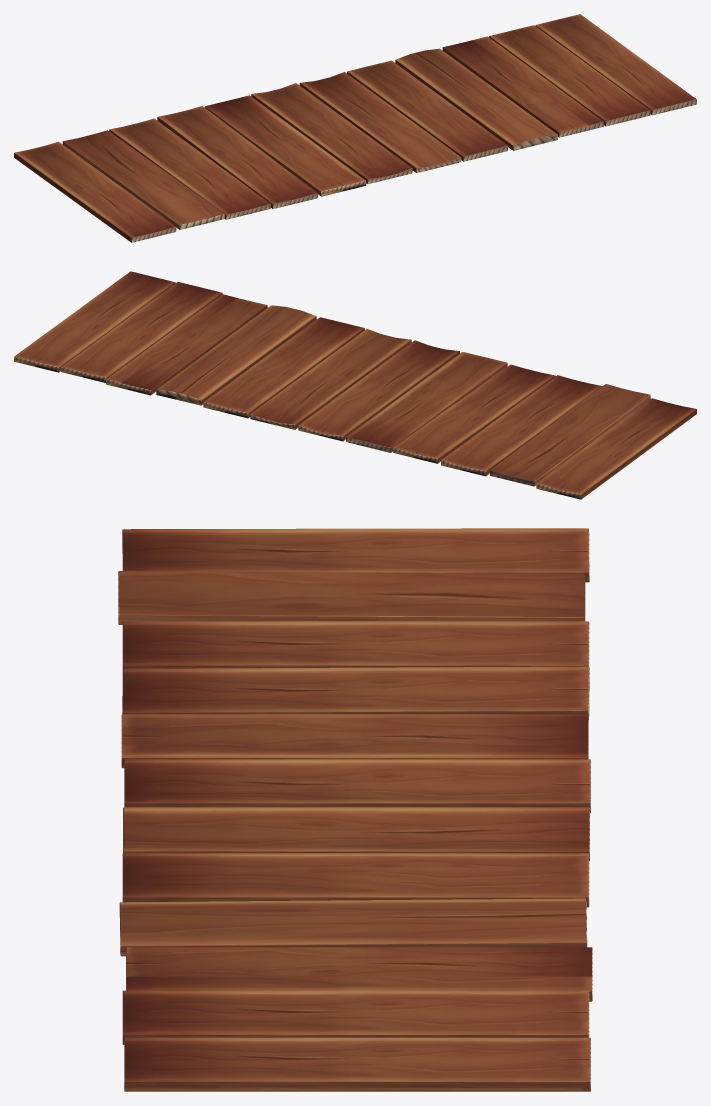
Rendered from platform.fbx.
3 renders of one model, top to bottom at view 1: azimuth 30°, elevation 25°; view 2: azimuth 150°, elevation 25°; view 3: azimuth 270°, elevation 25°, orthographic. The views are drawn at different scales.
Visible parts, largest first — view 1: platform; view 2: platform; view 3: platform.
Part boxes in pixels (x1,y1,x2,y2): platform: (14, 14, 696, 242); platform: (14, 271, 696, 499); platform: (118, 528, 592, 1091).
Bounding box in the file's own units: 413 × 6.04 × 150.
Materials: 1 (1 with a texture image).
